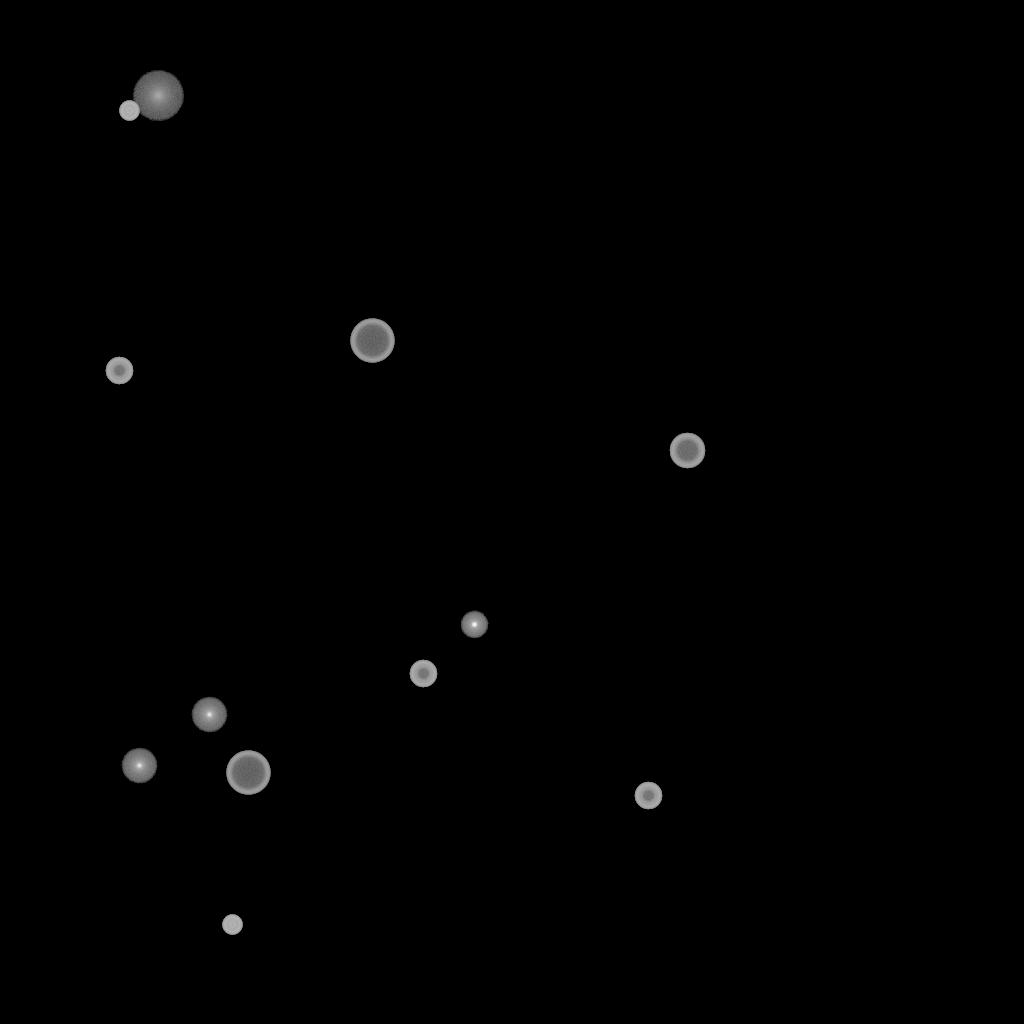depth:-10: (460, 611, 488, 639)
depth:-40: (222, 915, 242, 935), (119, 101, 139, 121)
depth:-50: (105, 357, 133, 385), (634, 782, 662, 810), (409, 660, 437, 688)
depth:-60: (669, 433, 705, 469)
depth:-70: (350, 319, 394, 363), (226, 751, 270, 795)
depth:0: (191, 697, 227, 733), (121, 748, 157, 784)
depth:20: (132, 71, 184, 121)
